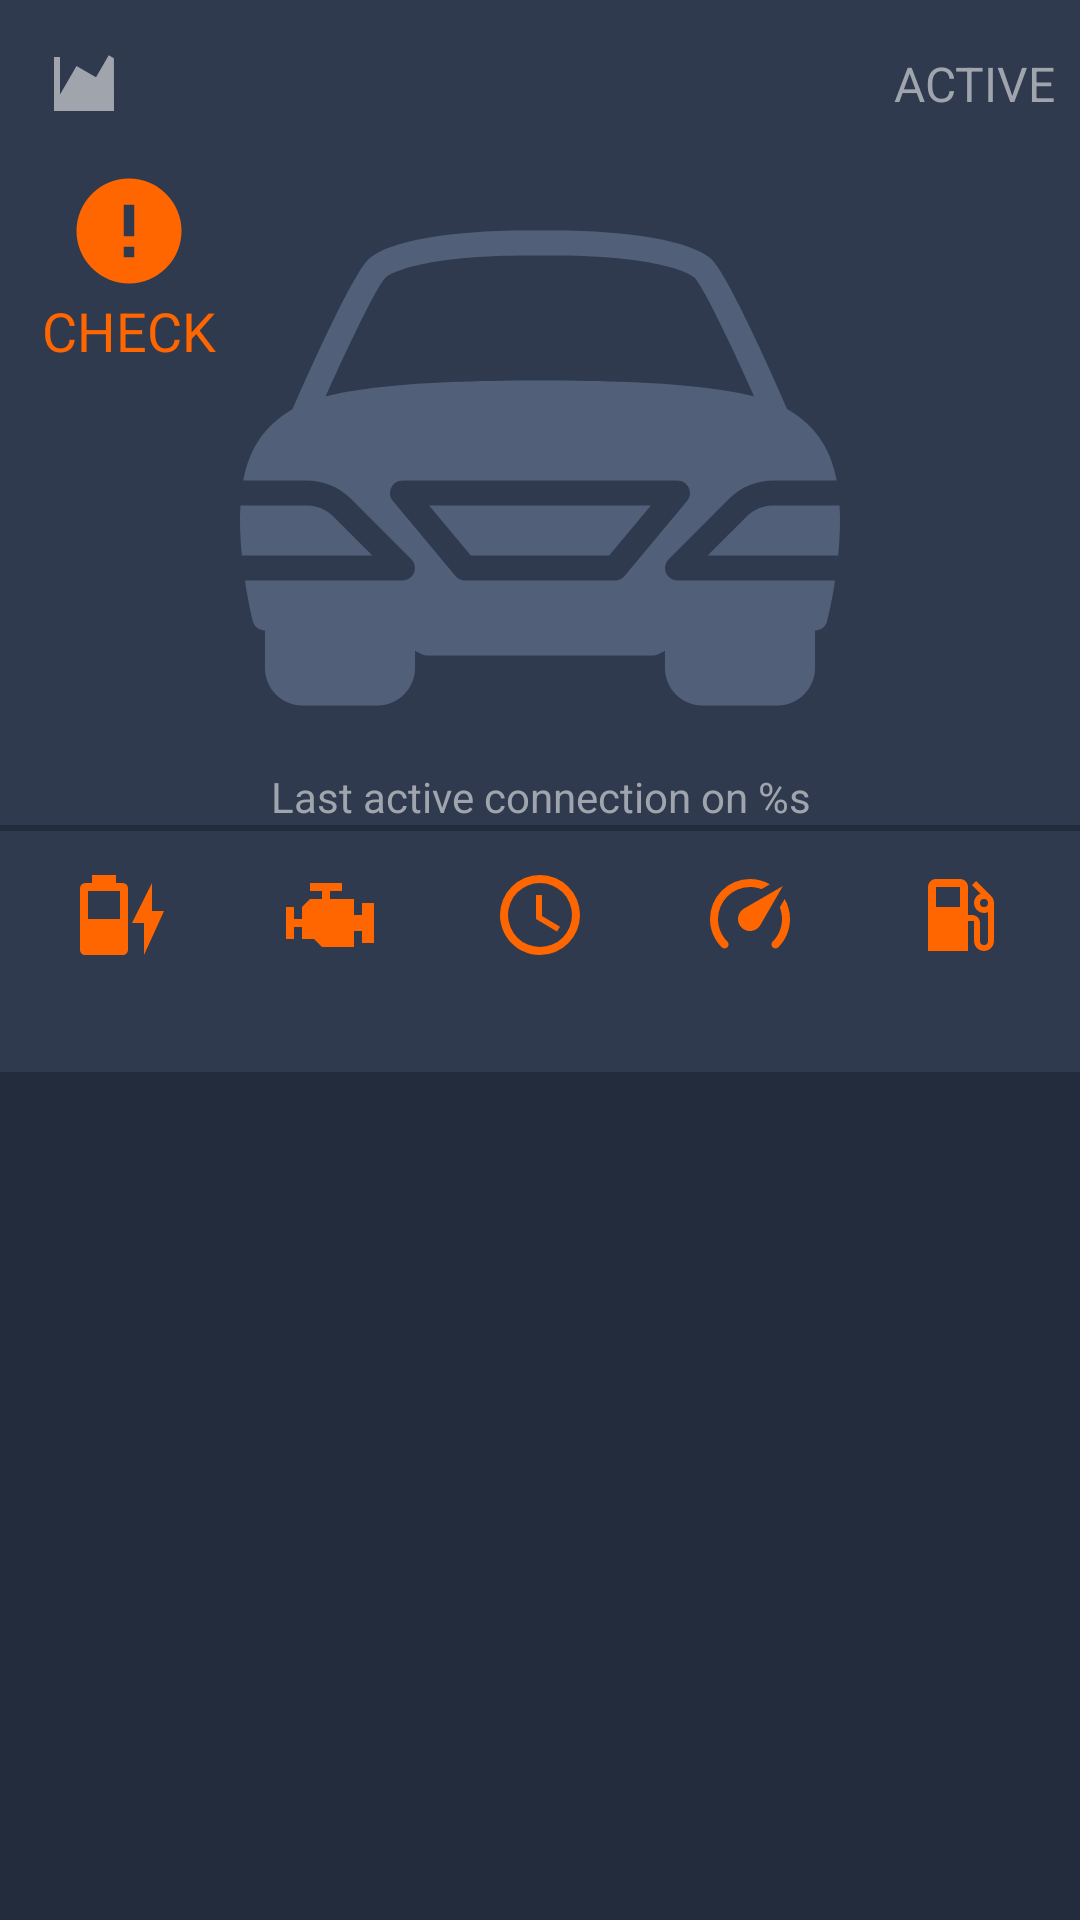

Icons on this 1080px×1920px Android screen, each with its box as [x1,y1,x2,y2]:
accumulator: [80,875,164,955]
alert: [76,178,182,284]
engine: [286,883,374,947]
fuel: [928,879,994,951]
speedometer: [710,879,790,949]
time: [500,875,580,955]
